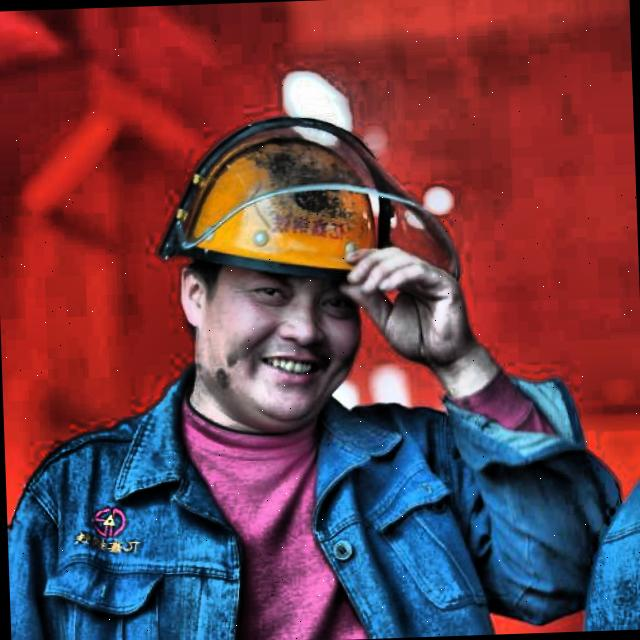helmet: (140, 82, 412, 452)
